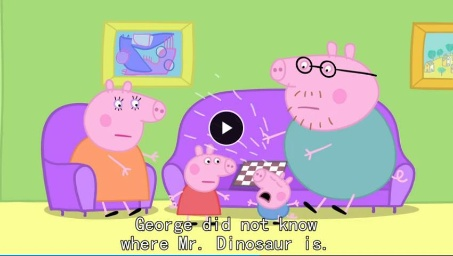Peppa: (167, 145, 237, 221)
